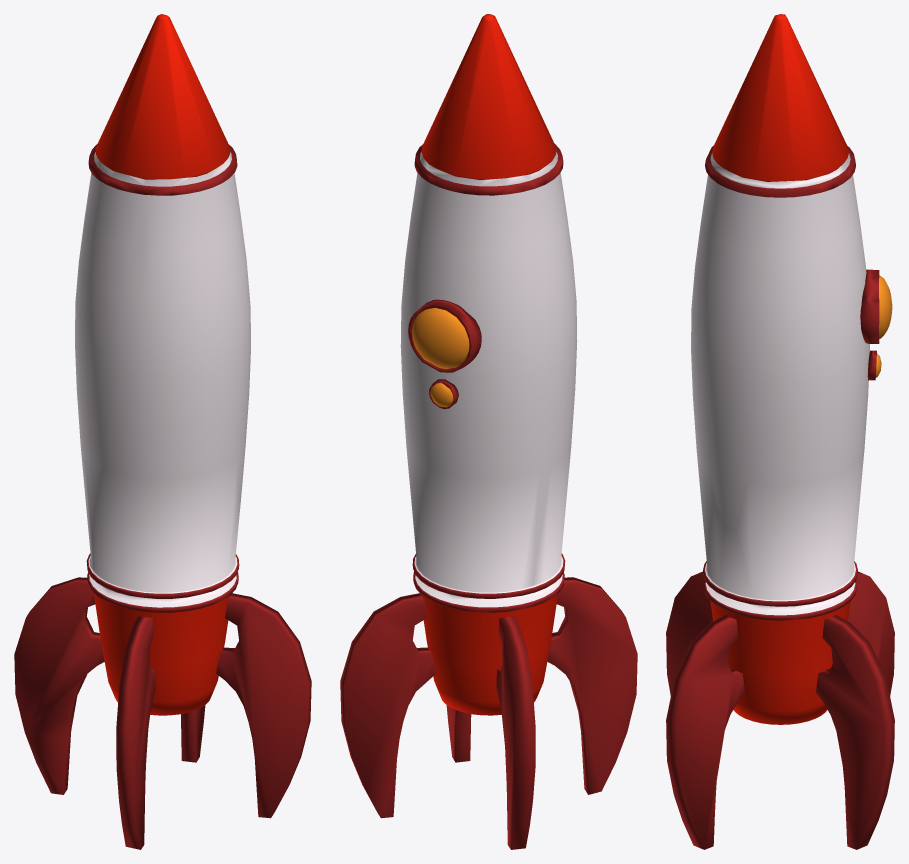
The picture shows the model from 3 angles, left to right: view 1: azimuth 30°, elevation 25°; view 2: azimuth 150°, elevation 25°; view 3: azimuth 270°, elevation 25°; orthographic projection.
Visible parts, largest first — view 1: Rocket; view 2: Rocket; view 3: Rocket.
Part boxes in pixels (left/top/right/bottom): Rocket: left=14, top=14, right=311, bottom=849; Rocket: left=340, top=14, right=637, bottom=849; Rocket: left=666, top=14, right=894, bottom=849.
Bounding box in the file's own units: 1.89 × 7.27 × 1.89.
Materials: 1 (1 with a texture image).
